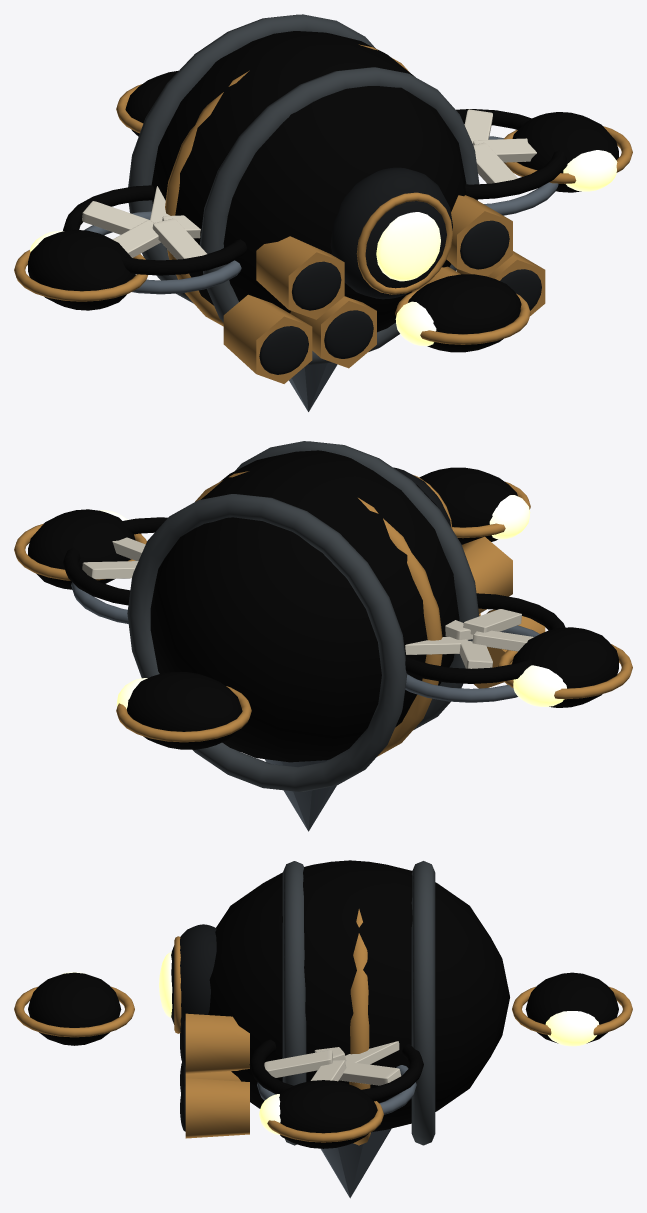
Rendered from warden-machine-apiary-v1.glb.
The picture shows the model from 3 angles, top to bottom: view 1: azimuth 30°, elevation 25°; view 2: azimuth 150°, elevation 25°; view 3: azimuth 270°, elevation 25°; orthographic projection. The views are drawn at different scales.
Parts seen in each view (by area): view 1: hive, Exposed instrument, Turbine nacelle (×2), Sentry 2, Sentry 3, Turbine rotor (×2), Sentry 1, Sentry 4; view 2: hive, Turbine nacelle (×2), Sentry 4, Sentry 3, Sentry 1, Sentry 2, Turbine rotor (×2), Exposed instrument; view 3: hive, Sentry 1, Sentry 4, Sentry 2, Exposed instrument, Turbine rotor, Turbine nacelle.
Boxes of the visible parts, <box> form: hive: <box>128,14,545,411</box>; Exposed instrument: <box>330,167,452,299</box>; Turbine nacelle (×2): <box>63,109,566,294</box>; Sentry 2: <box>395,274,530,352</box>; Sentry 3: <box>14,229,147,310</box>; Turbine rotor (×2): <box>82,109,536,259</box>; Sentry 1: <box>503,112,632,192</box>; Sentry 4: <box>116,70,178,136</box>; hive: <box>127,441,545,831</box>; Turbine nacelle (×2): <box>63,517,565,702</box>; Sentry 4: <box>116,672,251,749</box>; Sentry 3: <box>497,627,632,707</box>; Sentry 1: <box>14,509,146,589</box>; Sentry 2: <box>419,467,530,544</box>; Turbine rotor (×2): <box>82,537,533,668</box>; Exposed instrument: <box>393,467,452,529</box>; hive: <box>180,860,509,1198</box>; Sentry 1: <box>259,1080,383,1148</box>; Sentry 4: <box>512,972,632,1046</box>; Sentry 2: <box>14,972,134,1045</box>; Exposed instrument: <box>159,924,216,1033</box>; Turbine rotor: <box>264,1041,401,1085</box>; Turbine nacelle: <box>249,1039,423,1114</box>.
Size of the model in its own units: 2.79 by 1.62 by 2.79.
Materials: 7 (1 with a texture image).
